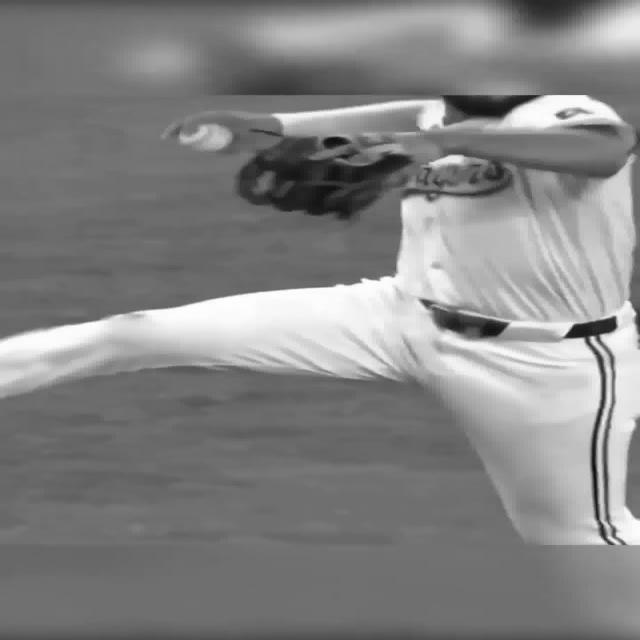baseball: (178, 124, 233, 151)
baseball_glove: (236, 138, 411, 219)
